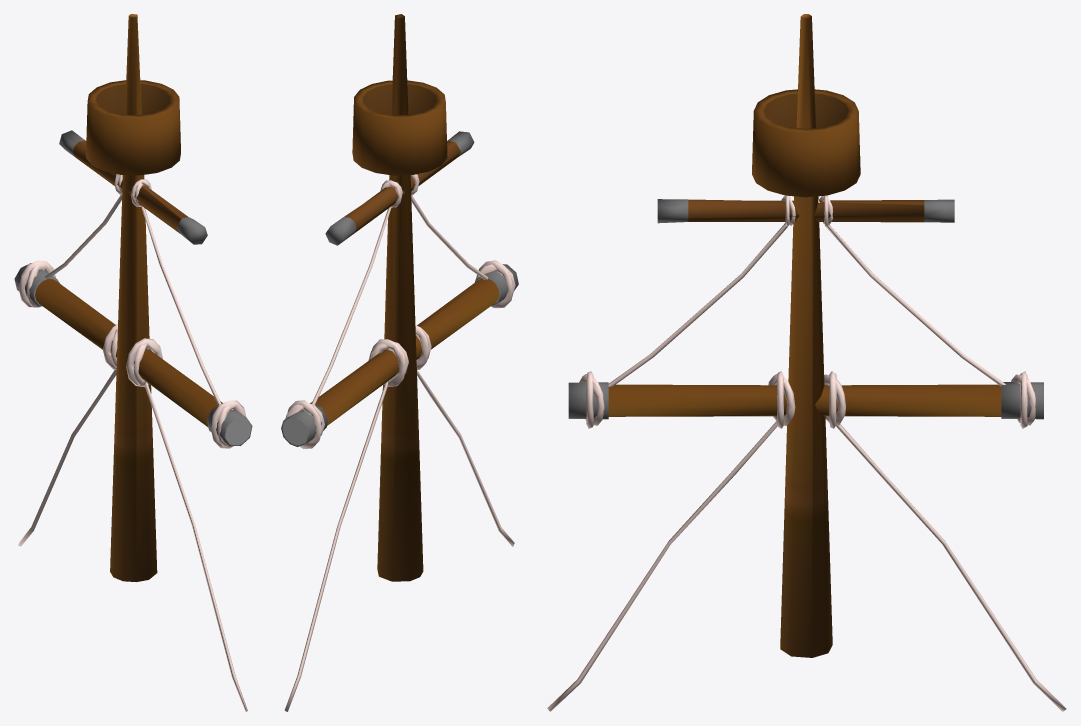
File: Mastro.glb
3 renders of one model, left to right at view 1: azimuth 30°, elevation 25°; view 2: azimuth 150°, elevation 25°; view 3: azimuth 270°, elevation 25°, orthographic. The views are drawn at different scales.
Visible parts, largest first — view 1: Mastro; view 2: Mastro; view 3: Mastro.
Boxes of the visible parts, box(x1,y1,x2,y2) form: Mastro: box(14, 14, 252, 711); Mastro: box(281, 14, 518, 711); Mastro: box(547, 14, 1066, 711).
Size of the model in its own units: 1.26 by 8.87 by 6.
1 material, 1 textured.
